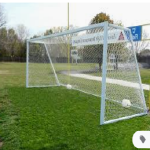goals: (25, 20, 150, 125)
